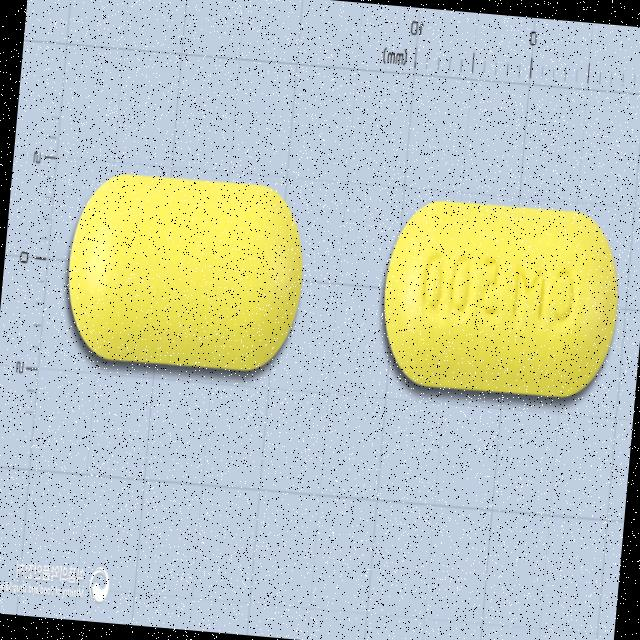Claricin: (55, 162, 312, 386), (372, 190, 629, 409)
